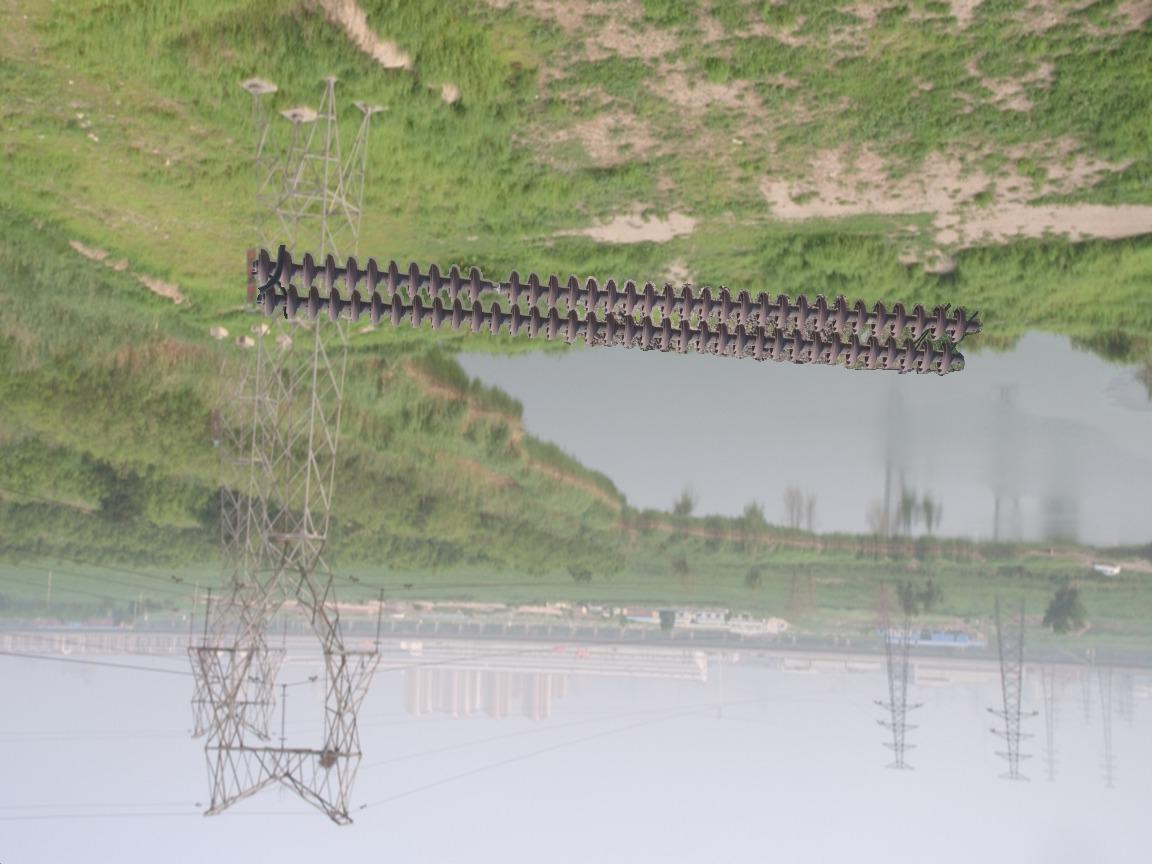insulator: (244, 243, 971, 380)
insulator_stringdrop: (466, 265, 523, 309)
